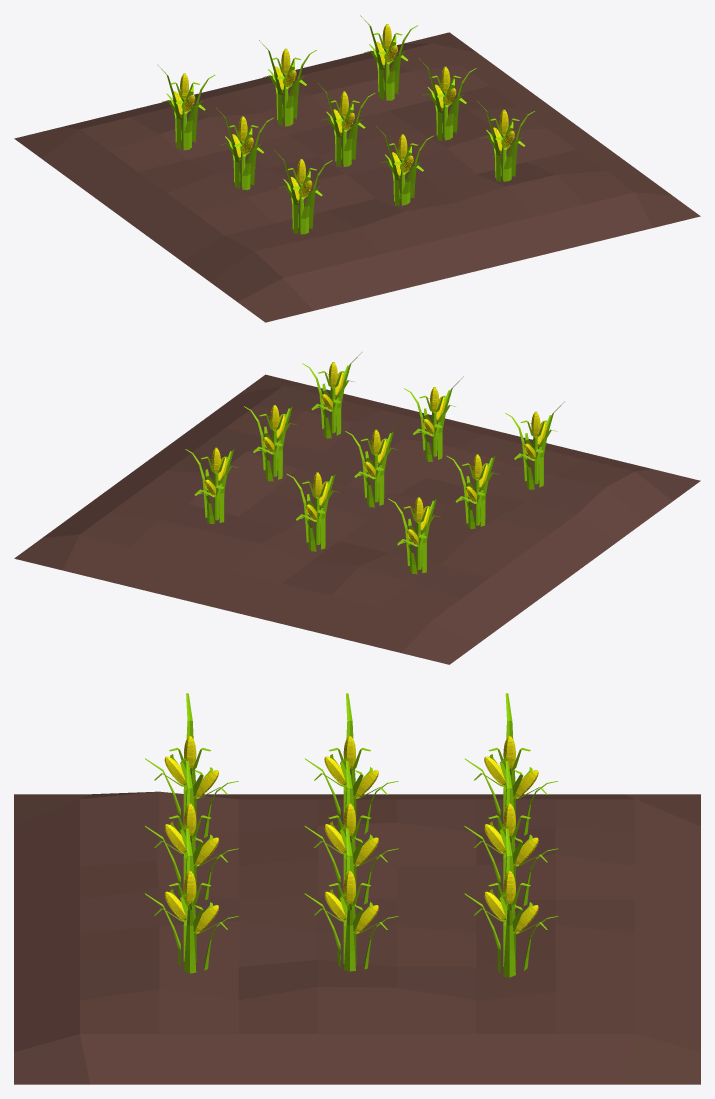
The model's file is CornFarm.fbx.
The picture shows the model from 3 angles, top to bottom: view 1: azimuth 30°, elevation 25°; view 2: azimuth 150°, elevation 25°; view 3: azimuth 270°, elevation 25°; orthographic projection. The views are drawn at different scales.
Parts seen in each view (by area): view 1: Plane.010; view 2: Plane.010; view 3: Plane.010.
Boxes of the visible parts, bbox=[...] form: Plane.010: bbox=[14, 15, 700, 322]; Plane.010: bbox=[14, 352, 700, 664]; Plane.010: bbox=[14, 693, 700, 1084].
Bounding box in the file's own units: 2457 × 587 × 2457.
